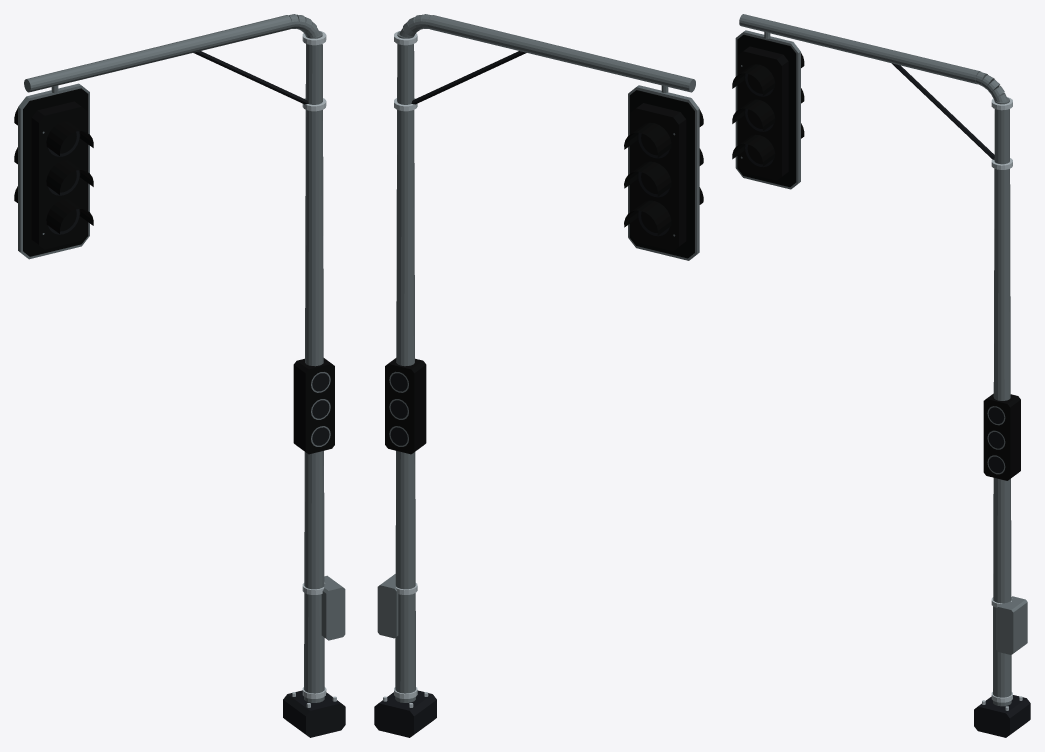
The model's file is PV_TrafficSignal.fbx.
3 renders of one model, left to right at view 1: azimuth 30°, elevation 25°; view 2: azimuth 150°, elevation 25°; view 3: azimuth 330°, elevation 25°, orthographic. The views are drawn at different scales.
Visible parts, largest first — view 1: PV_TrafficSignal; view 2: PV_TrafficSignal; view 3: PV_TrafficSignal.
Part boxes in pixels (box(x1,y1,x2,y2)): PV_TrafficSignal: box(14, 14, 345, 737); PV_TrafficSignal: box(374, 14, 703, 737); PV_TrafficSignal: box(732, 14, 1030, 737).
Size of what is drawn, in the model's own units: 3.65 by 7.92 by 0.916.
1 material, 1 textured.
